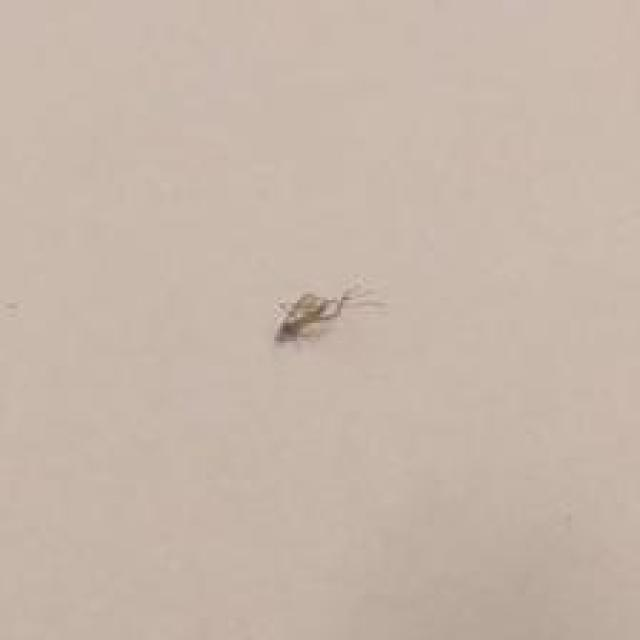Culex: (273, 287, 353, 344)
